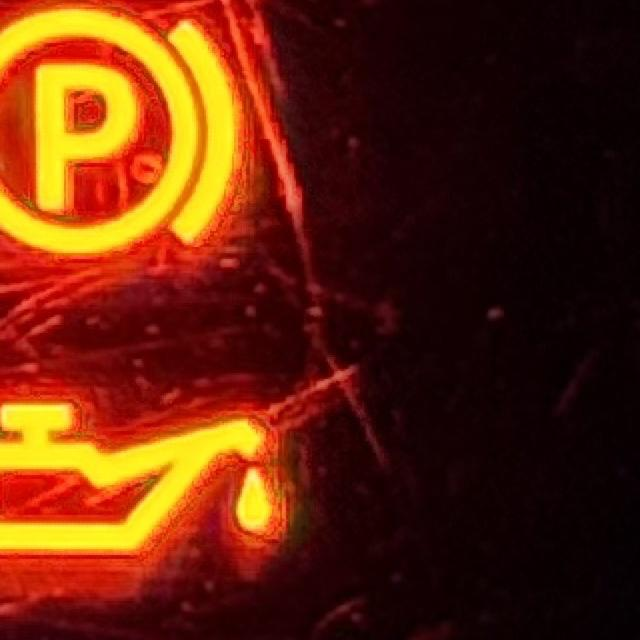Low Oil Pressure Issue: (1, 404, 280, 558)
Parking Break On: (1, 1, 241, 256)
